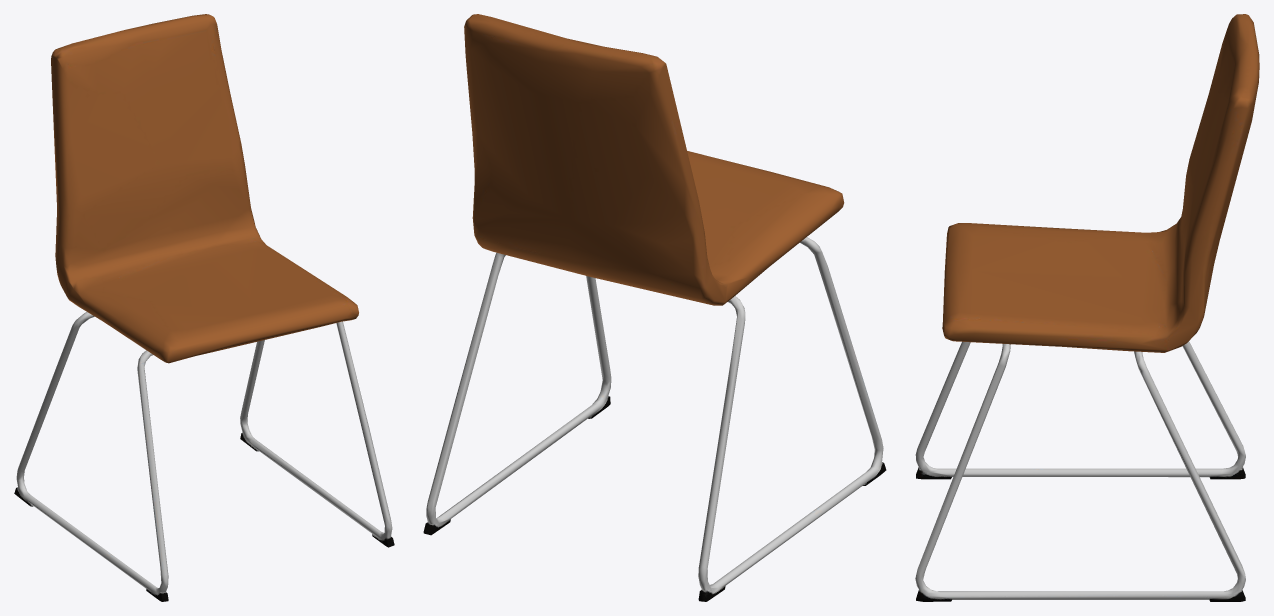
The model's file is LILL_N_S_70534773.glb.
3 renders of one model, left to right at view 1: azimuth 30°, elevation 25°; view 2: azimuth 150°, elevation 25°; view 3: azimuth 270°, elevation 25°, orthographic. The views are drawn at different scales.
Parts seen in each view (by area): view 1: ProcessedMeshNode; view 2: ProcessedMeshNode; view 3: ProcessedMeshNode.
Part boxes in pixels (bbox=[...]): ProcessedMeshNode: bbox=[14, 14, 394, 601]; ProcessedMeshNode: bbox=[423, 14, 886, 601]; ProcessedMeshNode: bbox=[915, 14, 1259, 601].
Bounding box in the file's own units: 0.4864 × 0.8744 × 0.5596.
1 material, 1 textured.
